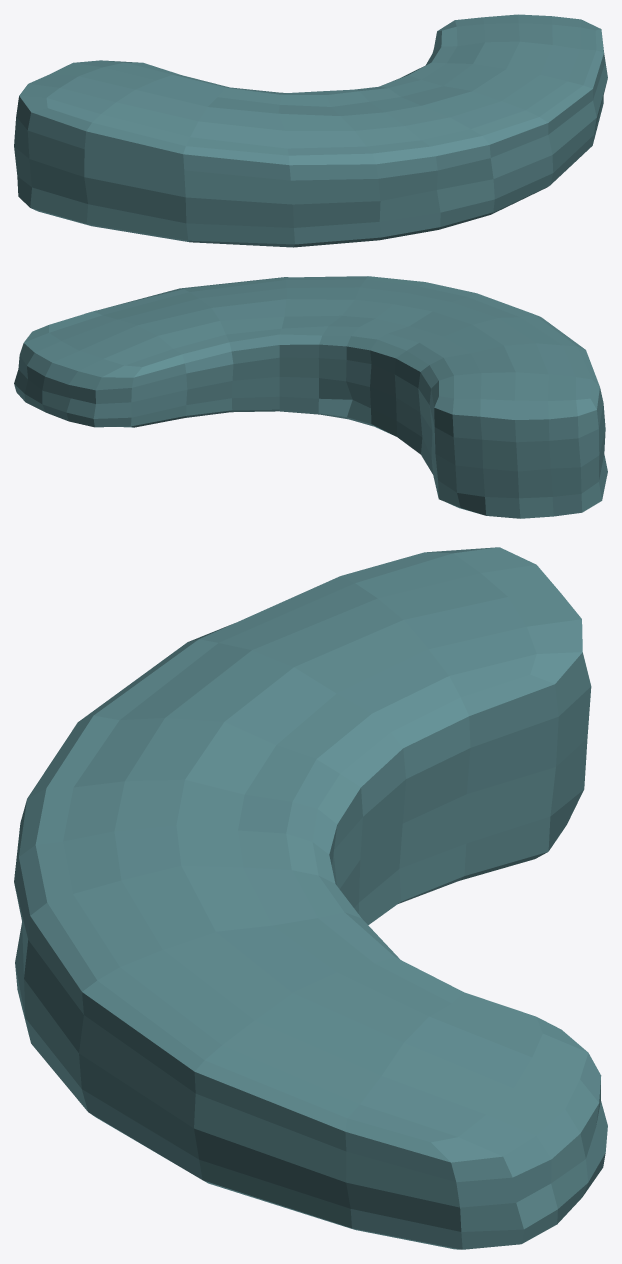
Rendered from Rock_Grass_02_Lod1_Mod3.fbx.
The picture shows the model from 3 angles, top to bottom: view 1: azimuth 30°, elevation 25°; view 2: azimuth 150°, elevation 25°; view 3: azimuth 270°, elevation 25°; orthographic projection. The views are drawn at different scales.
Parts seen in each view (by area): view 1: Rock_Grass_02_Lod1_Mod3; view 2: Rock_Grass_02_Lod1_Mod3; view 3: Rock_Grass_02_Lod1_Mod3.
Part boxes in pixels (left/top/right/bottom): Rock_Grass_02_Lod1_Mod3: left=14, top=14, right=607, bottom=247; Rock_Grass_02_Lod1_Mod3: left=14, top=276, right=607, bottom=518; Rock_Grass_02_Lod1_Mod3: left=14, top=547, right=607, bottom=1249.
Size of the model in its own units: 1278 by 248 by 628.
